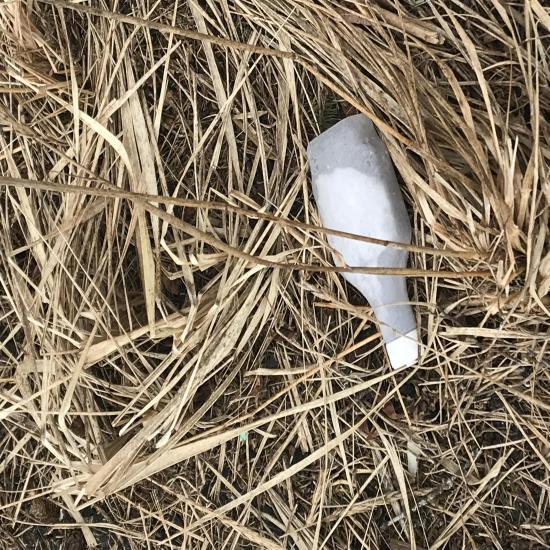Paper cup: (125, 82, 230, 241)
Plastic lid: (116, 22, 241, 93)
